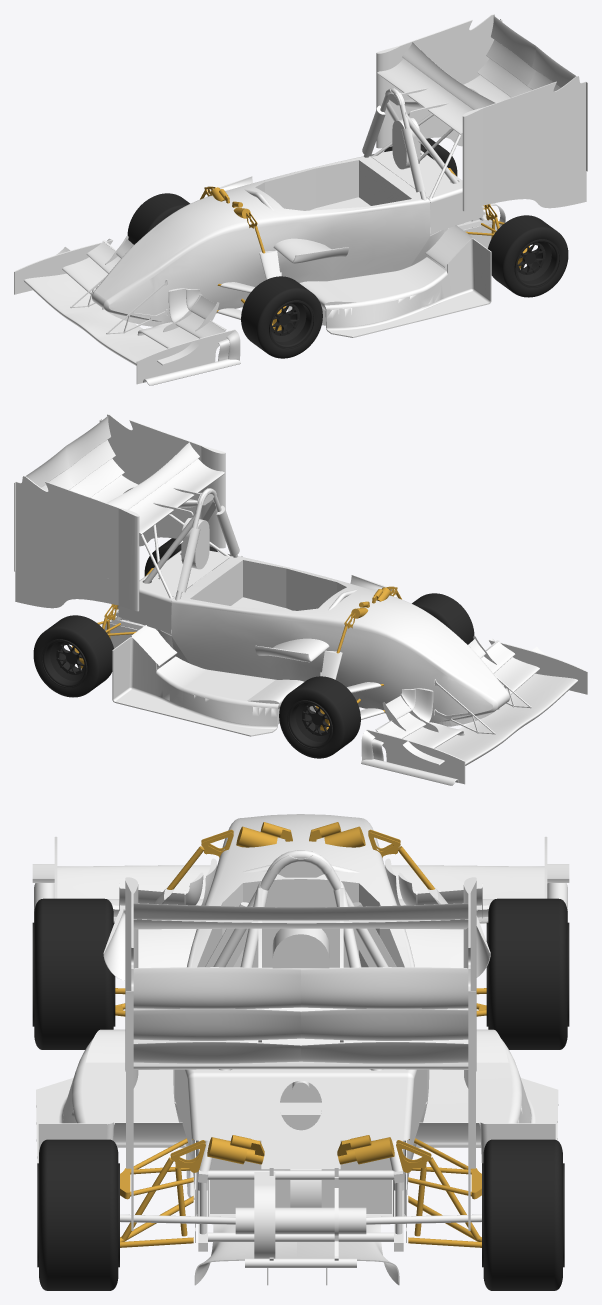
3 renders of one model, top to bottom at view 1: azimuth 30°, elevation 25°; view 2: azimuth 150°, elevation 25°; view 3: azimuth 270°, elevation 25°, orthographic. The views are drawn at different scales.
Visible parts, largest first — view 1: body-2-1Solid-162-1, RW-2-1RW_Mounts-2-1Solid-139-1, FW-2-1FW_Mounts-3-1Solid-119-1.125, DIFFUSER-1Solid-159-1, WHEELS-2-1FL-2-1, WHEELS-2-1RL-2-1, body-2-1Solid-163-1, WHEELS-2-1FR-2-1, RW-2-1RW_Mounts-2-1Solid-136-1; view 2: body-2-1Solid-162-1, RW-2-1RW_Mounts-2-1Solid-139-1, FW-2-1FW_Mounts-3-1Solid-119-1.125, DIFFUSER-1Solid-159-1, WHEELS-2-1FR-2-1, WHEELS-2-1RR-2-1, body-2-1Solid-163-1, WHEELS-2-1FL-2-1, RW-2-1RW_Mounts-2-1Solid-136-1; view 3: RW-2-1RW_Mounts-2-1Solid-139-1, DIFFUSER-1Solid-159-1, body-2-1Solid-162-1, body-2-1Solid-163-1, FW-2-1FW_Mounts-3-1Solid-119-1.125, WHEELS-2-1RL-2-1, WHEELS-2-1RR-2-1, WHEELS-2-1FR-2-1, WHEELS-2-1FL-2-1, body-2-1Solid-165-1, body-2-1Solid-164-1, suspension_rear-2-1Solid-195-1 (+9 smaller).
Part boxes in pixels (bbox=[...]): body-2-1Solid-162-1: bbox=[92, 88, 499, 326]; RW-2-1RW_Mounts-2-1Solid-139-1: bbox=[376, 14, 587, 211]; FW-2-1FW_Mounts-3-1Solid-119-1.125: bbox=[14, 236, 240, 385]; DIFFUSER-1Solid-159-1: bbox=[207, 176, 491, 337]; WHEELS-2-1FL-2-1: bbox=[241, 276, 322, 358]; WHEELS-2-1RL-2-1: bbox=[488, 215, 568, 297]; body-2-1Solid-163-1: bbox=[370, 150, 484, 233]; WHEELS-2-1FR-2-1: bbox=[127, 193, 189, 244]; RW-2-1RW_Mounts-2-1Solid-136-1: bbox=[371, 114, 461, 202]; body-2-1Solid-162-1: bbox=[102, 488, 509, 726]; RW-2-1RW_Mounts-2-1Solid-139-1: bbox=[14, 414, 225, 611]; FW-2-1FW_Mounts-3-1Solid-119-1.125: bbox=[361, 636, 587, 785]; DIFFUSER-1Solid-159-1: bbox=[112, 555, 396, 736]; WHEELS-2-1FR-2-1: bbox=[279, 676, 360, 758]; WHEELS-2-1RR-2-1: bbox=[33, 615, 113, 697]; body-2-1Solid-163-1: bbox=[117, 550, 231, 633]; WHEELS-2-1FL-2-1: bbox=[412, 593, 474, 644]; RW-2-1RW_Mounts-2-1Solid-136-1: bbox=[140, 514, 230, 602]; RW-2-1RW_Mounts-2-1Solid-139-1: bbox=[125, 877, 476, 1230]; DIFFUSER-1Solid-159-1: bbox=[36, 905, 558, 1285]; body-2-1Solid-162-1: bbox=[173, 814, 429, 1251]; body-2-1Solid-163-1: bbox=[174, 1069, 427, 1169]; FW-2-1FW_Mounts-3-1Solid-119-1.125: bbox=[32, 836, 569, 923]; WHEELS-2-1RL-2-1: bbox=[37, 1139, 119, 1290]; WHEELS-2-1RR-2-1: bbox=[482, 1139, 564, 1290]; WHEELS-2-1FR-2-1: bbox=[486, 898, 569, 1049]; WHEELS-2-1FL-2-1: bbox=[32, 898, 115, 1049]; body-2-1Solid-165-1: bbox=[120, 1164, 481, 1267]; body-2-1Solid-164-1: bbox=[210, 1080, 391, 1213]; suspension_rear-2-1Solid-195-1: bbox=[207, 1135, 264, 1164].
Bounding box in the file's own units: 2.94 × 1.13 × 1.46.
